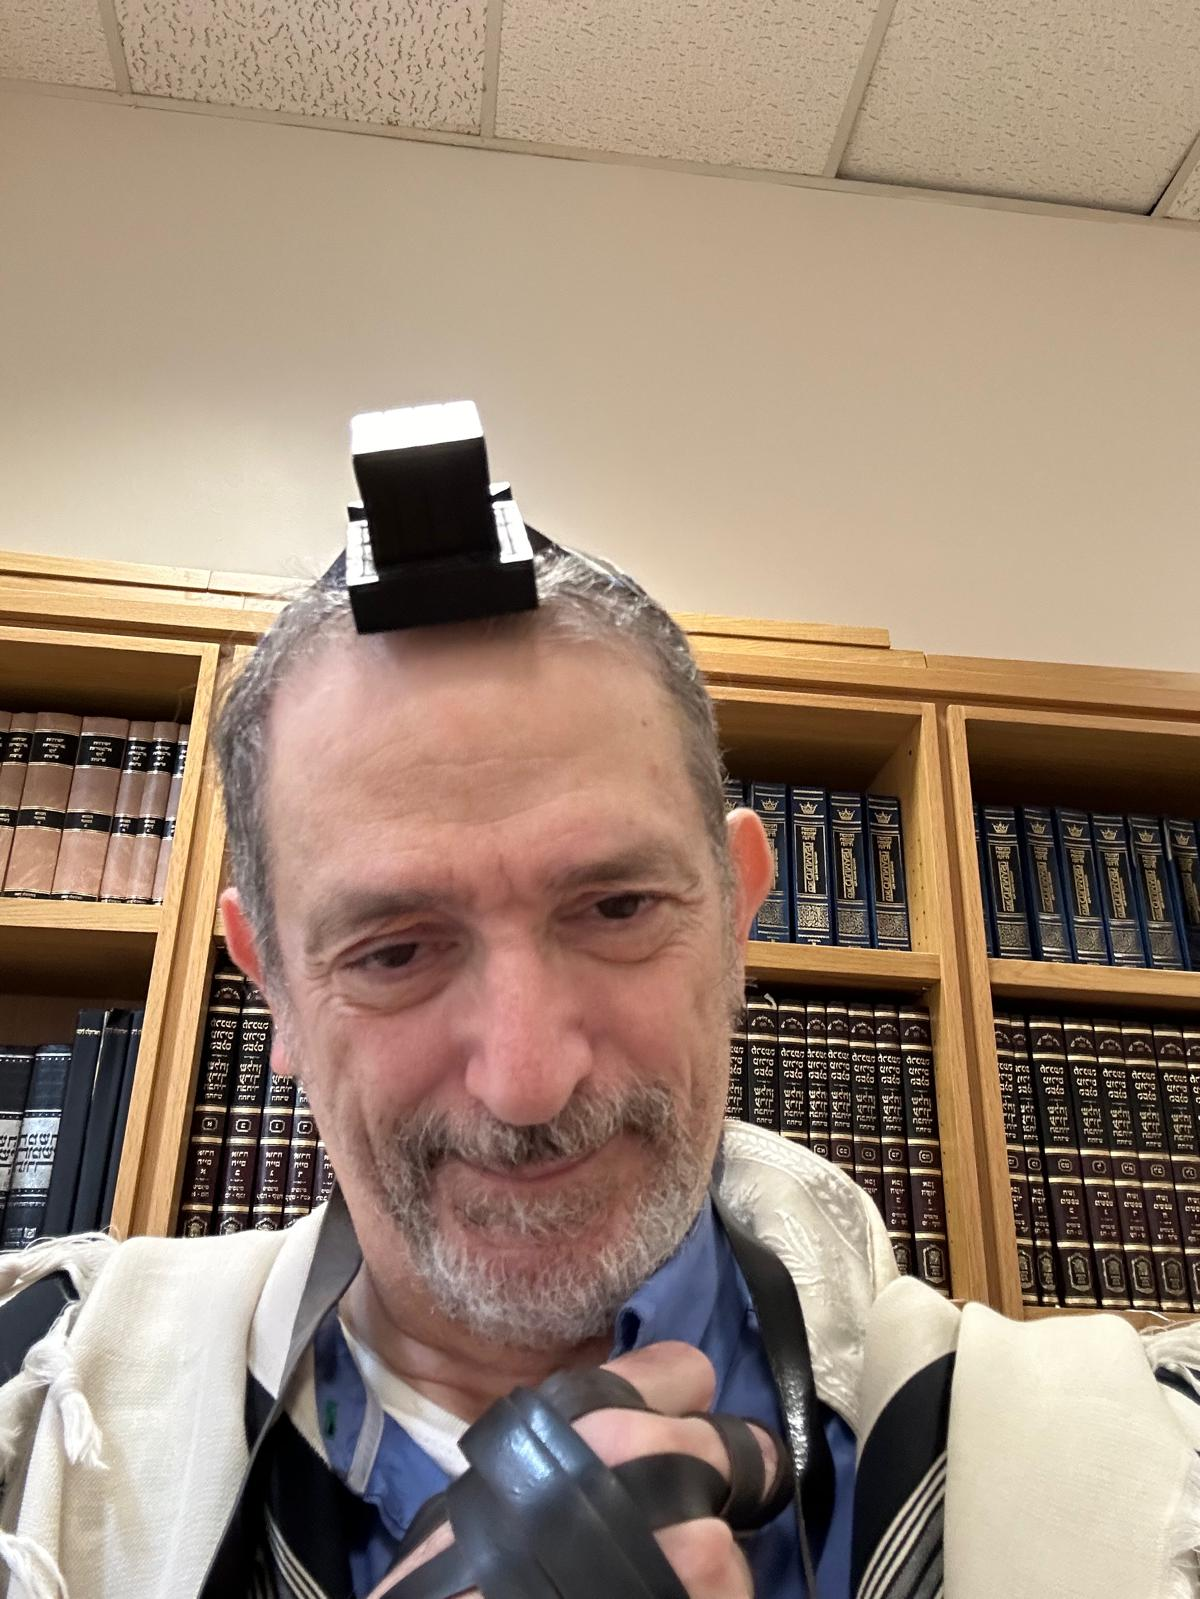tefillin: (343, 397, 539, 638)
